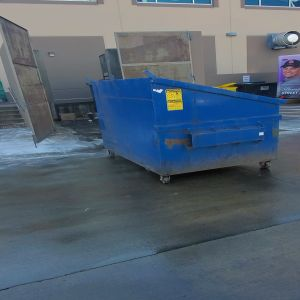Dumpster: (91, 79, 284, 185)
